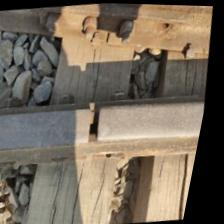person: (69, 103, 128, 152)
